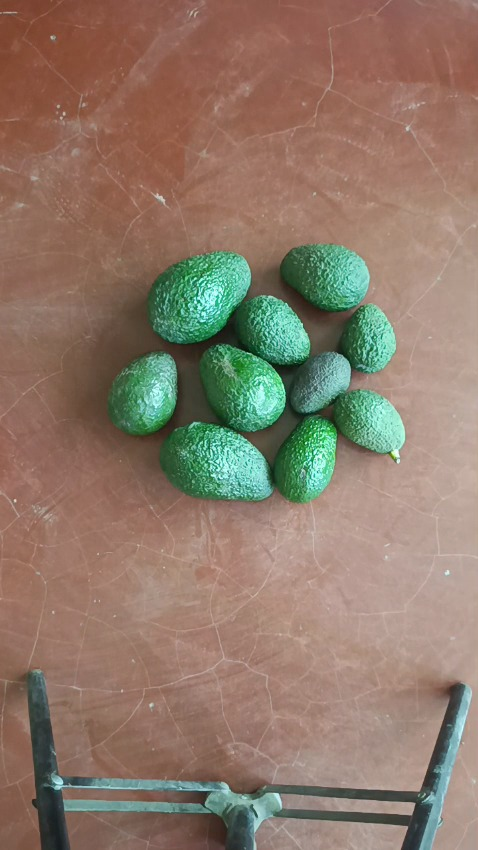Primera: (146, 250, 250, 343), (160, 422, 274, 500), (198, 343, 287, 431)
Segunda: (106, 351, 181, 435), (278, 243, 369, 311), (272, 415, 338, 502), (232, 294, 311, 366)
Tercera: (331, 387, 405, 455), (338, 304, 397, 374), (288, 351, 352, 414)
